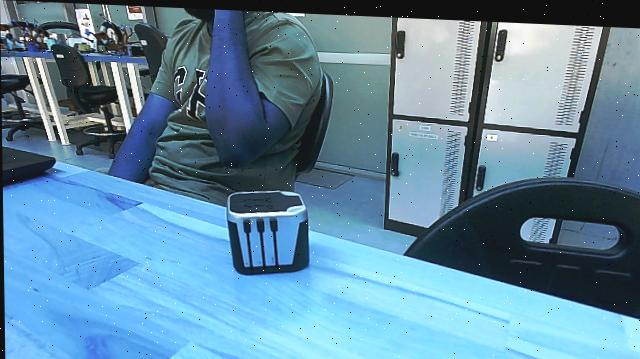adapter: (223, 184, 306, 276)
